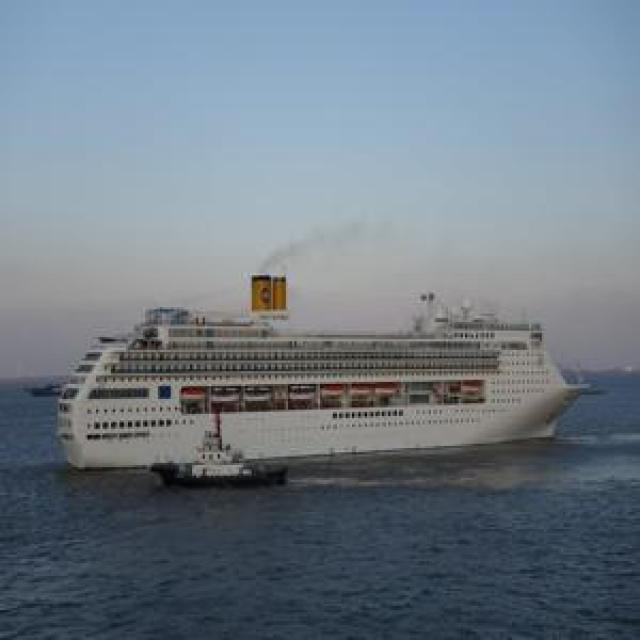cargoship: (150, 425, 291, 486)
passenger ship: (53, 265, 589, 455)
